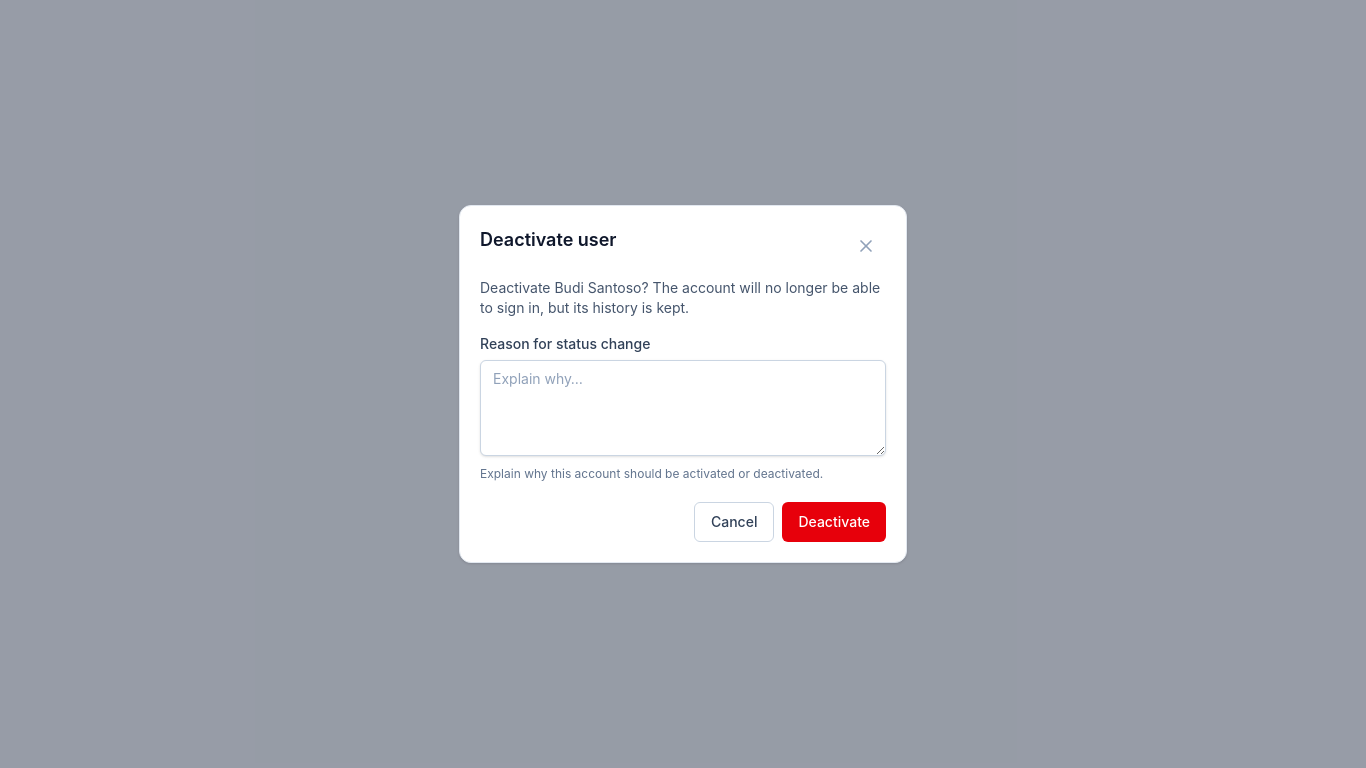
Test: UserStatusDialog › requires a reason of at least five characters
Click the button "Deactivate": (834, 522) [782,502,886,542]
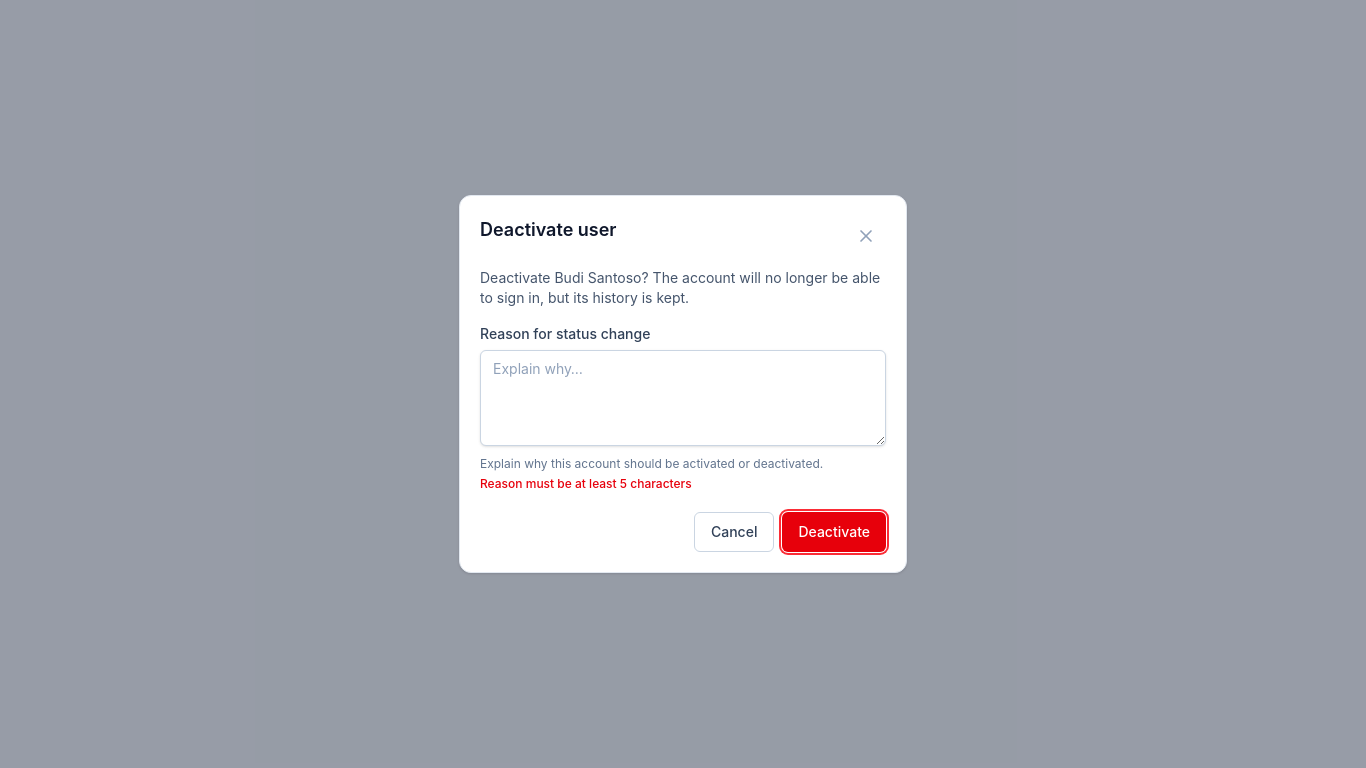
Result: the text "Reason must be at least 5 characters" is shown at [480,476,692,491]
